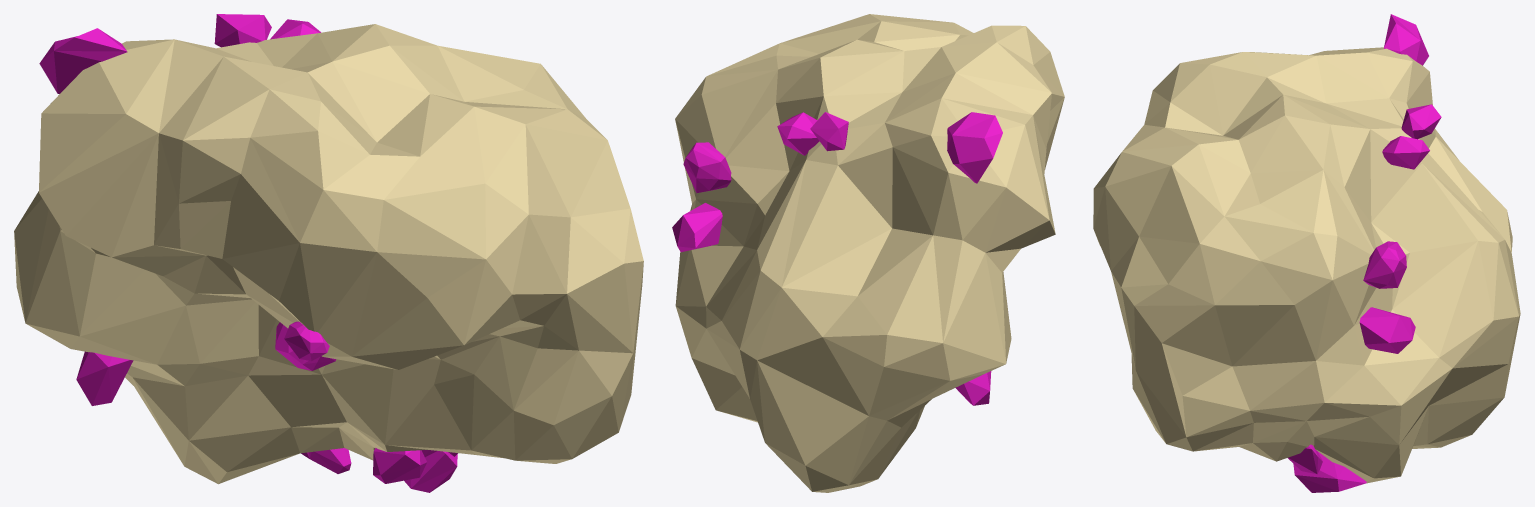
File: CrystalOre (49).fbx
3 renders of one model, left to right at view 1: azimuth 30°, elevation 25°; view 2: azimuth 150°, elevation 25°; view 3: azimuth 270°, elevation 25°, orthographic. The views are drawn at different scales.
Visible parts, largest first — view 1: Asteroid269; view 2: Asteroid269; view 3: Asteroid269.
Part boxes in pixels (left/top/right/bottom): Asteroid269: left=14, top=14, right=643, bottom=492; Asteroid269: left=672, top=14, right=1064, bottom=492; Asteroid269: left=1093, top=14, right=1520, bottom=492.
Bounding box in the file's own units: 277 × 266 × 278.
